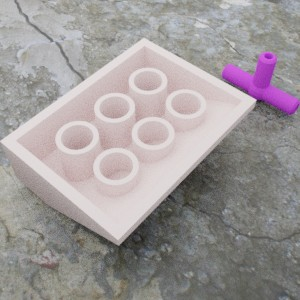3297: (0, 37, 256, 245)
4697b: (221, 51, 300, 115)
